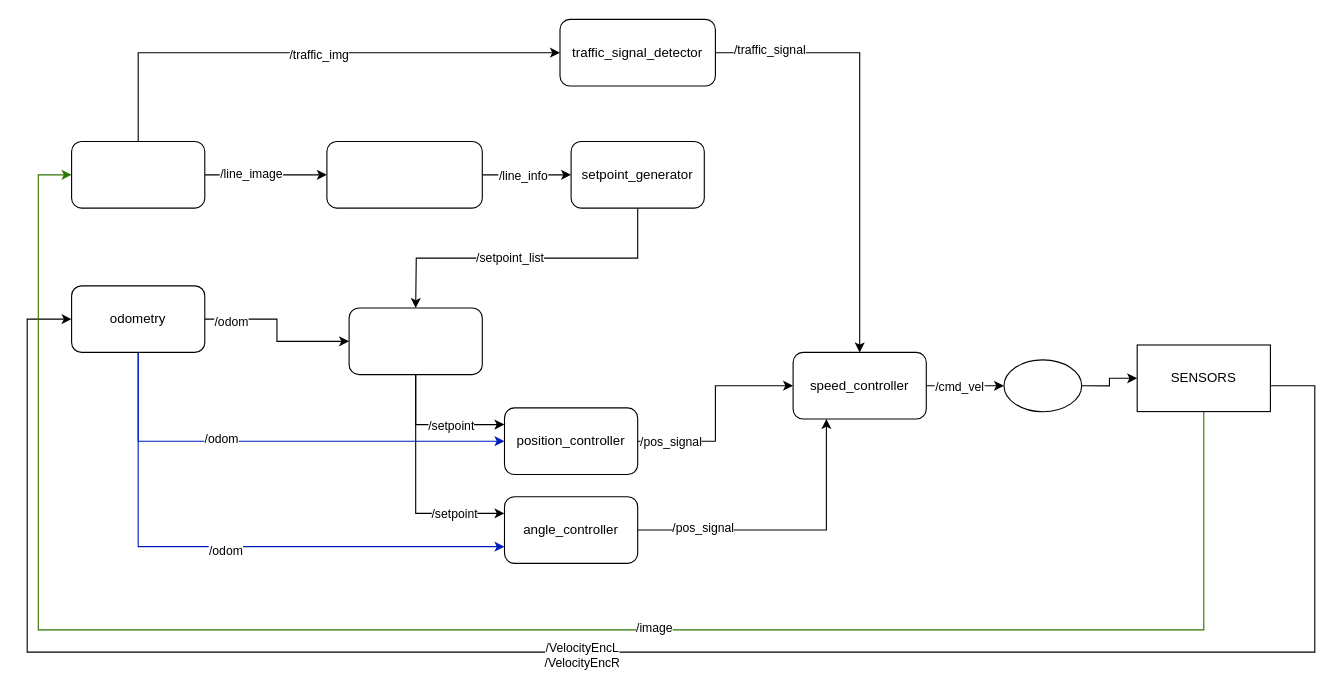
This 1343x688 diagram has some shape labels left out. Here are the shapes that lost their labels. From the top down, the centre of each, then its label:
the point at 137,174: image_processor
the point at 404,174: line_detector
the point at 415,341: setpoint_manager
the point at 1042,385: Robot
